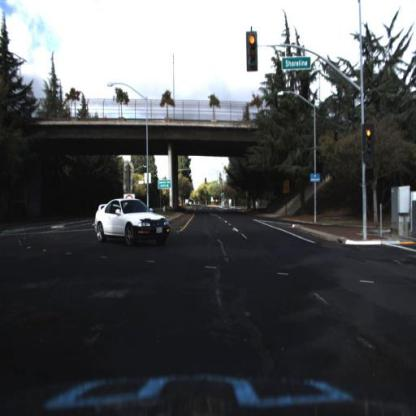car: (92, 196, 175, 245)
trafficLight: (364, 123, 375, 159)
trafficLight-Red: (247, 32, 257, 72)
